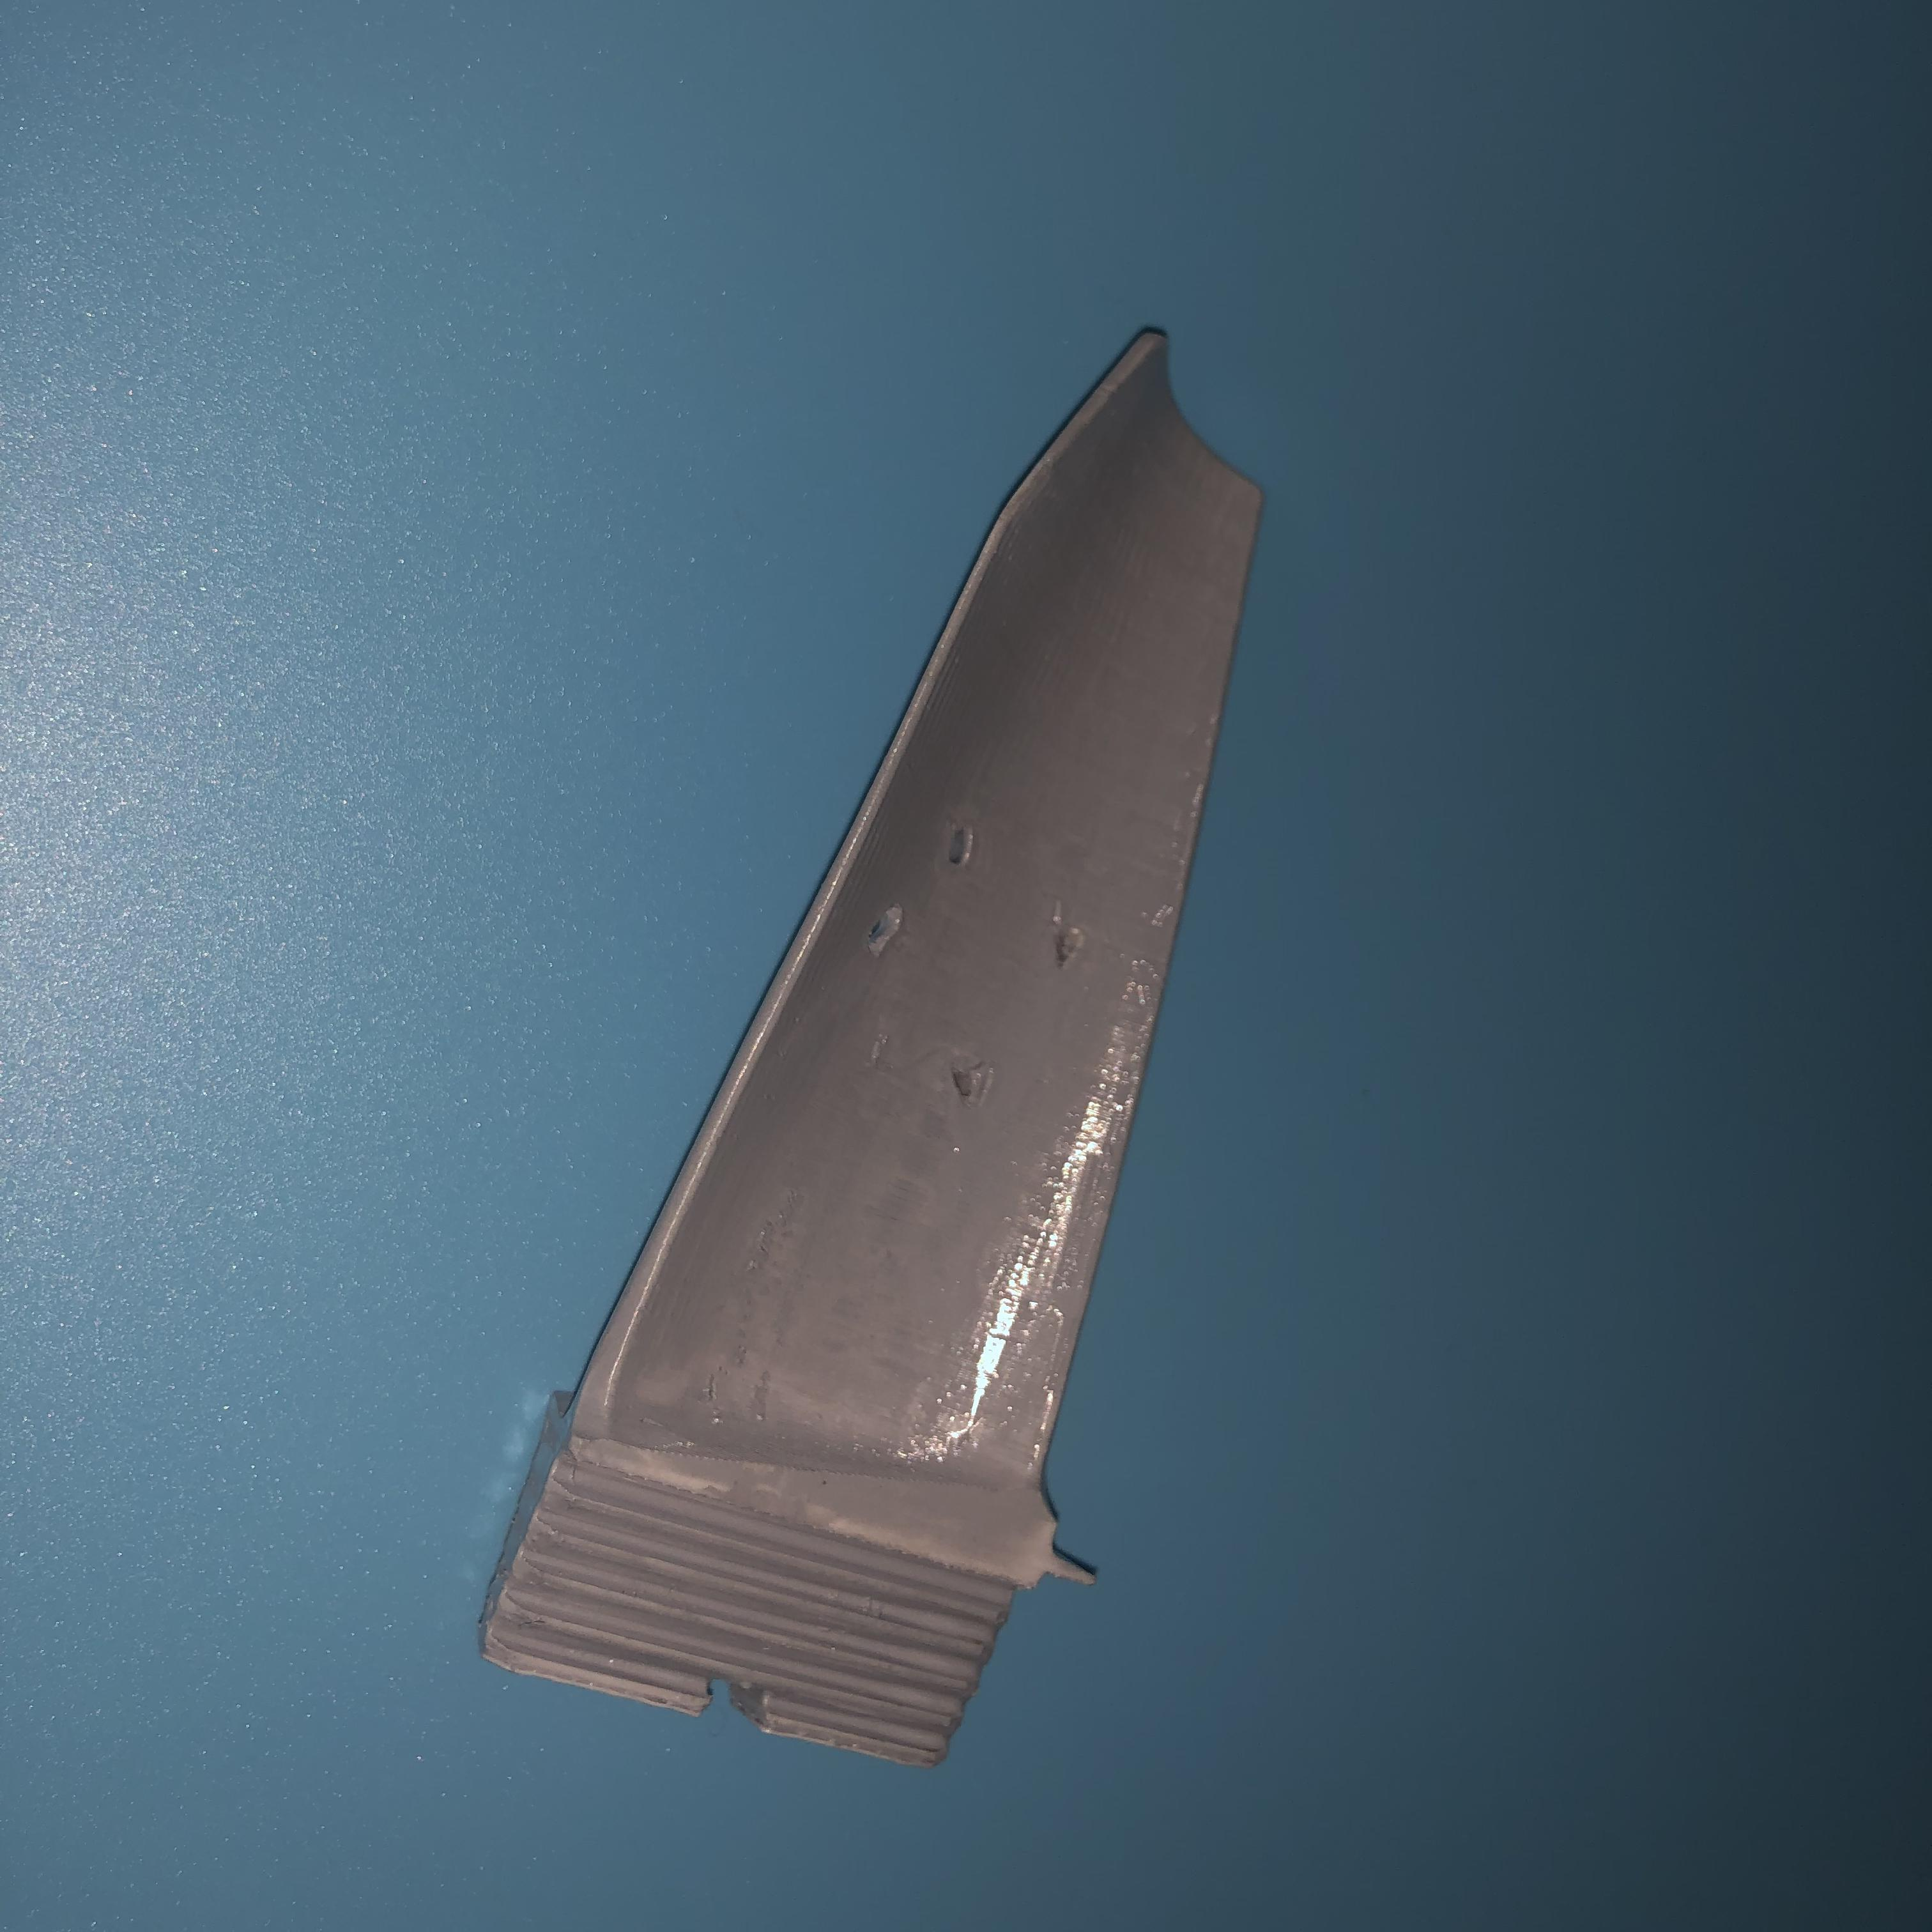breakdown: (874, 826, 998, 943), (941, 1044, 1010, 1115), (1035, 920, 1099, 973)
